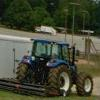Tractor: (21, 34, 100, 100)
